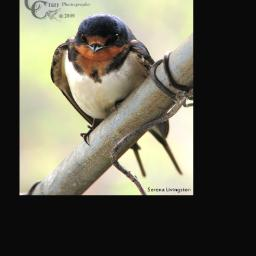Swallow: (51, 13, 184, 177)
